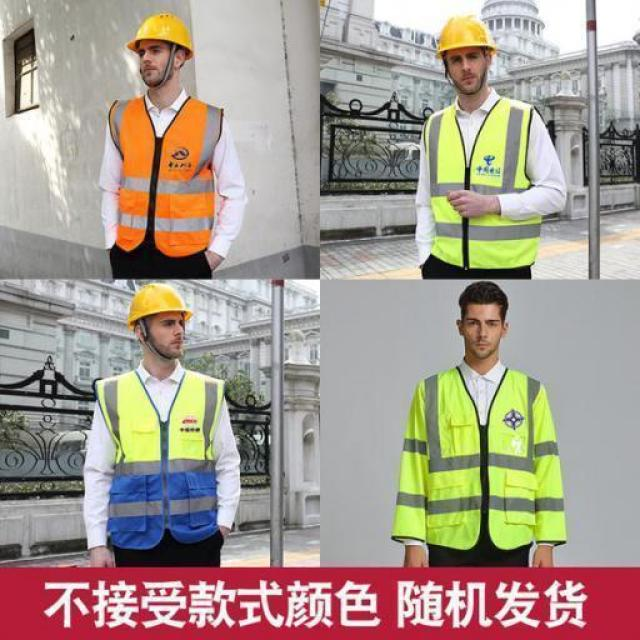face_nomask: (131, 41, 170, 84), (462, 313, 501, 355), (446, 47, 482, 88), (154, 314, 188, 351)
hand_noglove: (441, 189, 491, 221)
head_helmet: (122, 283, 194, 326), (435, 12, 499, 57), (127, 11, 193, 54)
head_nohelmet: (454, 279, 510, 313)
person: (392, 282, 572, 568), (78, 286, 248, 566), (402, 11, 572, 280), (90, 13, 250, 278)
vest: (398, 366, 566, 548), (89, 372, 226, 548), (420, 100, 541, 268), (106, 94, 228, 258)
